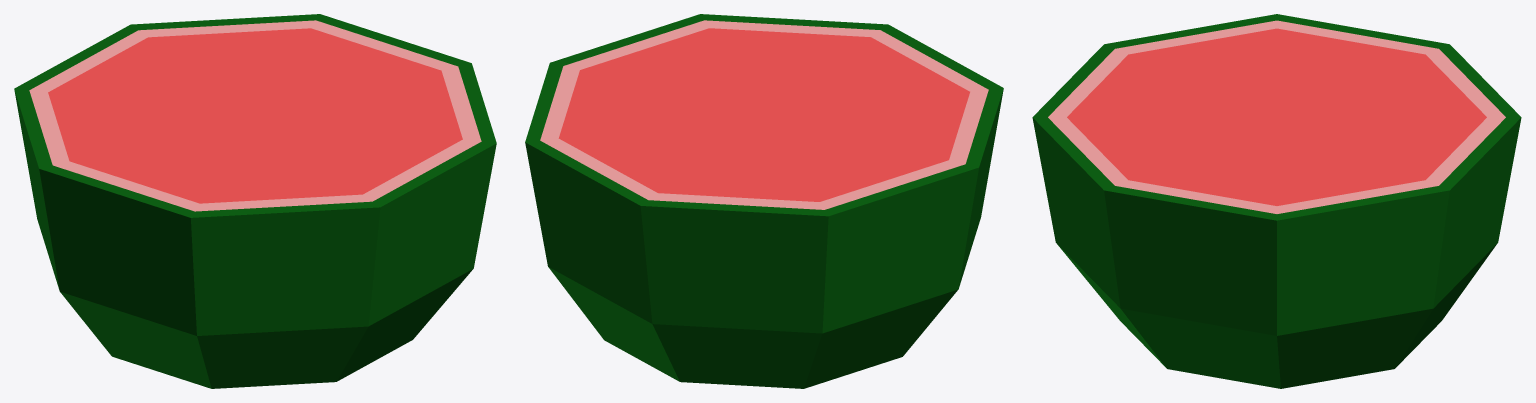
Rendered from watermelon02.obj.
3 renders of one model, left to right at view 1: azimuth 30°, elevation 25°; view 2: azimuth 150°, elevation 25°; view 3: azimuth 270°, elevation 25°, orthographic. The views are drawn at different scales.
Visible parts, largest first — view 1: Cylinder; view 2: Cylinder; view 3: Cylinder.
Boxes of the visible parts, x1=… form: Cylinder: x1=14, y1=14, x2=496, y2=388; Cylinder: x1=525, y1=14, x2=1003, y2=388; Cylinder: x1=1032, y1=14, x2=1521, y2=388.
Size of the model in its own units: 0.1946 by 0.1016 by 0.1946.
1 material, 1 textured.
